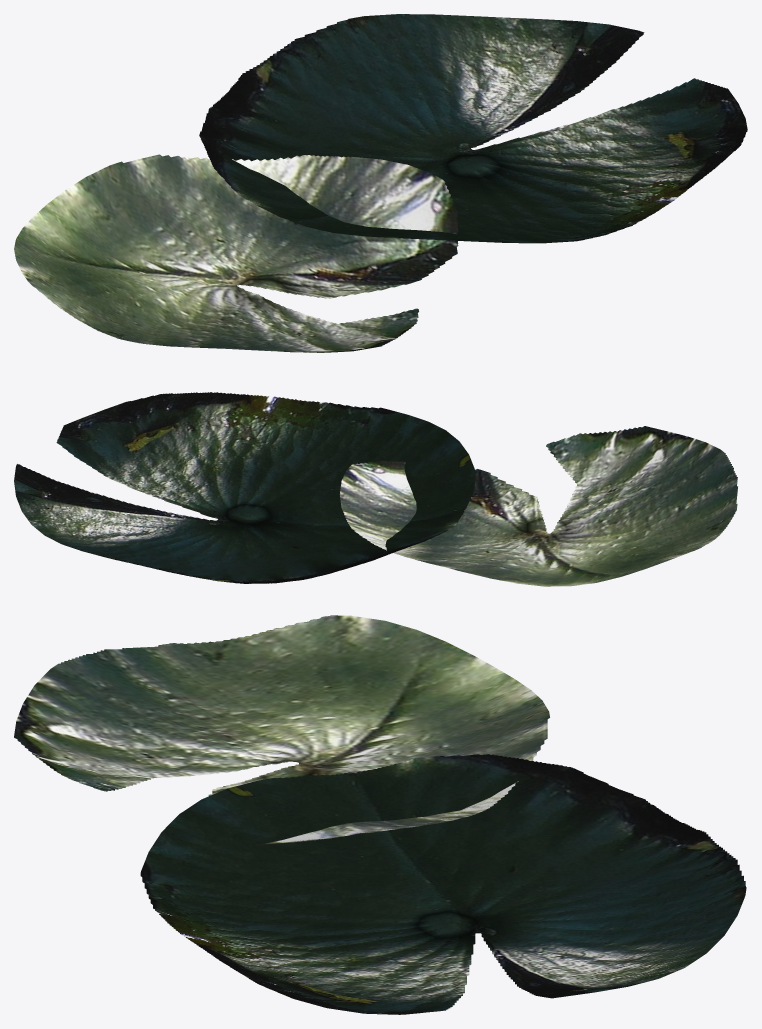
The model's file is lily_leaves.obj.
3 views of the same model, one above another, from view 1: azimuth 30°, elevation 25°; view 2: azimuth 150°, elevation 25°; view 3: azimuth 270°, elevation 25° (orthographic). The views are drawn at different scales.
Parts seen in each view (by area): view 1: Photo_pad_1.001, Photo_pad_0.001; view 2: Photo_pad_1.001, Photo_pad_0.001; view 3: Photo_pad_1.001, Photo_pad_0.001.
Boxes of the visible parts, bbox=[...] form: Photo_pad_1.001: bbox=[199, 14, 747, 243]; Photo_pad_0.001: bbox=[14, 154, 458, 352]; Photo_pad_1.001: bbox=[14, 392, 475, 583]; Photo_pad_0.001: bbox=[339, 426, 737, 586]; Photo_pad_1.001: bbox=[140, 754, 746, 1014]; Photo_pad_0.001: bbox=[14, 615, 549, 845].
Size of the model in its own units: 24.43 by 1.34 by 19.19.
Materials: 2 (2 with a texture image).
